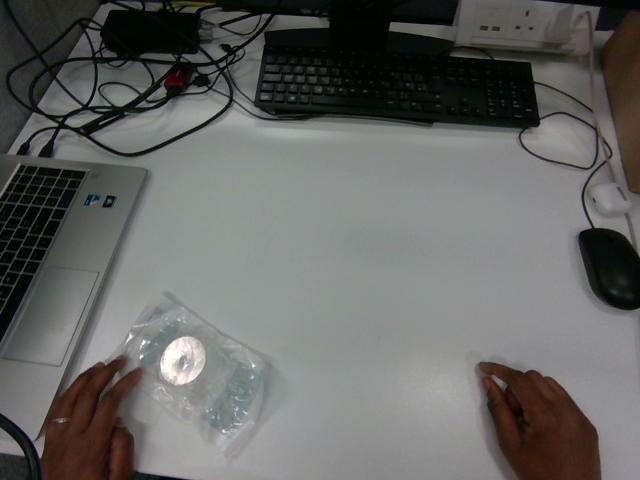gallipot: (120, 298, 264, 452)
